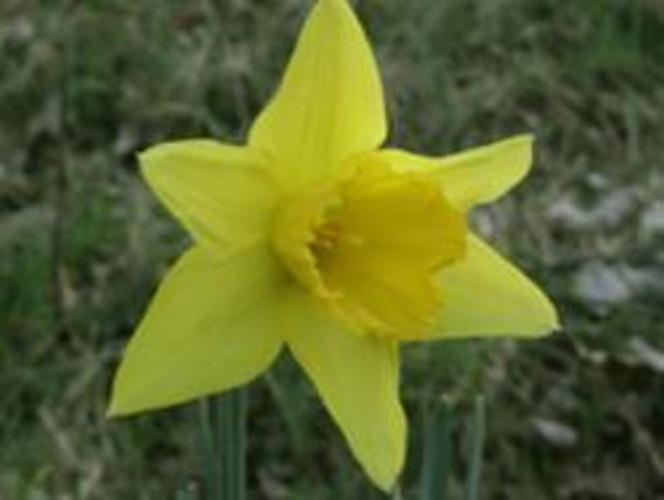flower1: (102, 1, 564, 492)
